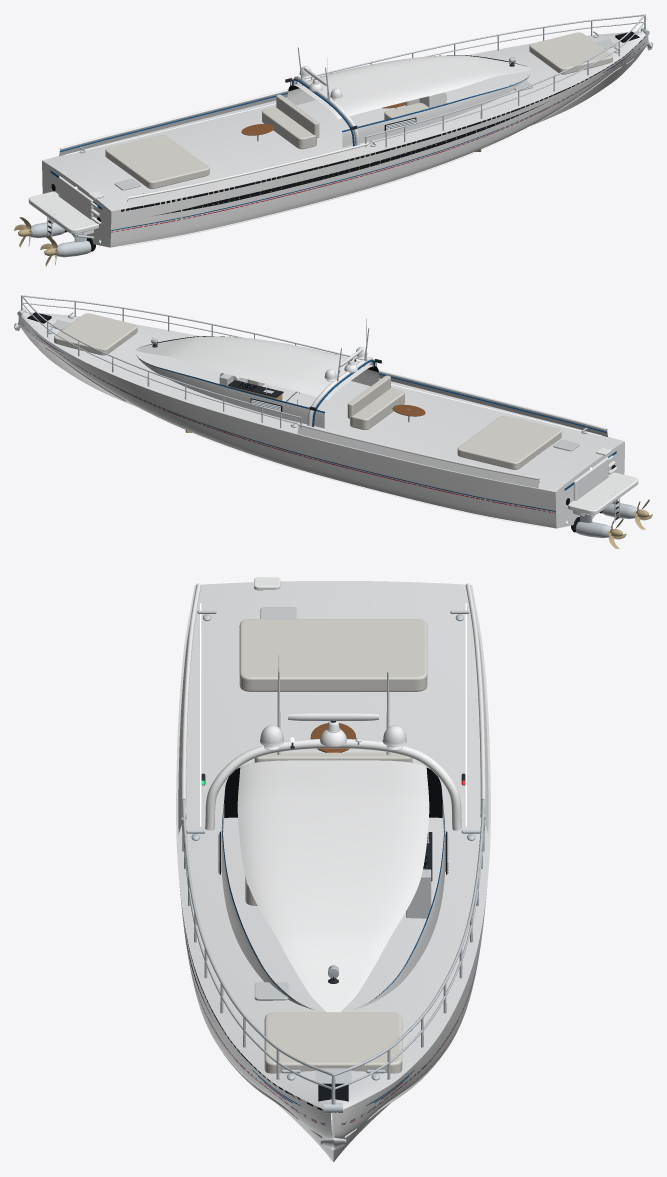
File: dpv-luxury-yacht-detailed.glb
The picture shows the model from 3 angles, top to bottom: view 1: azimuth 30°, elevation 25°; view 2: azimuth 150°, elevation 25°; view 3: azimuth 270°, elevation 25°; orthographic projection. The views are drawn at different scales.
Visible parts, largest first — view 1: main_deck, hull_topside_stbd, house_roof, sunpad, bow_sunpad, coaming_stbd, house_side_lower_stbd, swim_platform, hull_glazing_stbd, transom, coaming_port, cockpit_bench (+18 smaller); view 2: main_deck, hull_topside_port, house_roof, sunpad, bow_sunpad, coaming_port, house_side_lower_port, swim_platform, transom, coaming_stbd, cockpit_bench, drive_nacelle (×2) (+15 smaller); view 3: main_deck, house_roof, sunpad, bow_sunpad, hull_topside_port, hull_topside_stbd, radar_arch, house_side_lower_port, house_side_lower_stbd, bench_back, coaming_cap_stbd, coaming_cap_port (+7 smaller).
Boxes of the visible parts, bbox=[...] form: main_deck: bbox=[42, 31, 645, 211]; hull_topside_stbd: bbox=[110, 35, 648, 247]; house_roof: bbox=[292, 55, 531, 119]; sunpad: bbox=[105, 135, 209, 188]; bow_sunpad: bbox=[529, 32, 612, 74]; coaming_stbd: bbox=[127, 145, 369, 207]; house_side_lower_stbd: bbox=[342, 74, 530, 147]; swim_platform: bbox=[28, 191, 98, 233]; hull_glazing_stbd: bbox=[154, 102, 546, 215]; transom: bbox=[42, 161, 111, 247]; coaming_port: bbox=[59, 92, 287, 156]; cockpit_bench: bbox=[262, 107, 316, 149]; main_deck: bbox=[21, 311, 624, 491]; hull_topside_port: bbox=[18, 316, 556, 528]; house_roof: bbox=[135, 336, 373, 399]; sunpad: bbox=[457, 416, 561, 469]; bow_sunpad: bbox=[54, 313, 137, 355]; coaming_port: bbox=[297, 426, 539, 488]; house_side_lower_port: bbox=[136, 355, 324, 428]; swim_platform: bbox=[568, 472, 638, 514]; transom: bbox=[555, 441, 624, 528]; coaming_stbd: bbox=[379, 372, 607, 436]; cockpit_bench: bbox=[350, 387, 404, 429]; drive_nacelle (×2): bbox=[575, 503, 637, 538]; main_deck: bbox=[176, 581, 490, 1109]; house_roof: bbox=[237, 760, 429, 1012]; sunpad: bbox=[239, 619, 427, 691]; bow_sunpad: bbox=[264, 1012, 402, 1073]; hull_topside_port: bbox=[334, 887, 487, 1138]; hull_topside_stbd: bbox=[180, 898, 332, 1138]; radar_arch: bbox=[205, 739, 461, 830]; house_side_lower_port: bbox=[353, 788, 445, 1009]; house_side_lower_stbd: bbox=[221, 788, 313, 1009]; bench_back: bbox=[254, 752, 412, 762]; coaming_cap_stbd: bbox=[181, 583, 201, 819]; coaming_cap_port: bbox=[465, 583, 485, 819].
Size of the model in its own units: 31.53 by 6.89 by 6.92.
